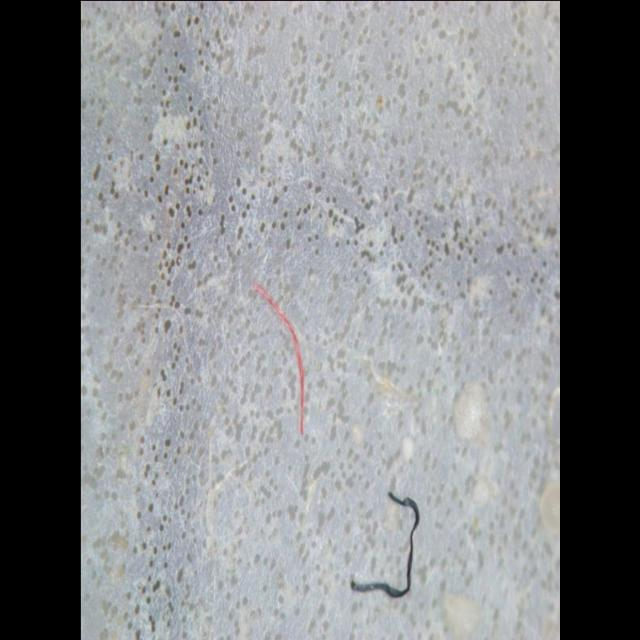Fibre: (251, 277, 309, 437), (344, 488, 424, 604)
